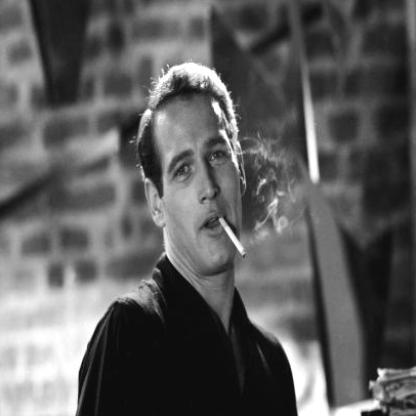cigarette: (216, 216, 250, 259)
person: (97, 67, 276, 416)
smoke: (252, 134, 292, 232)
